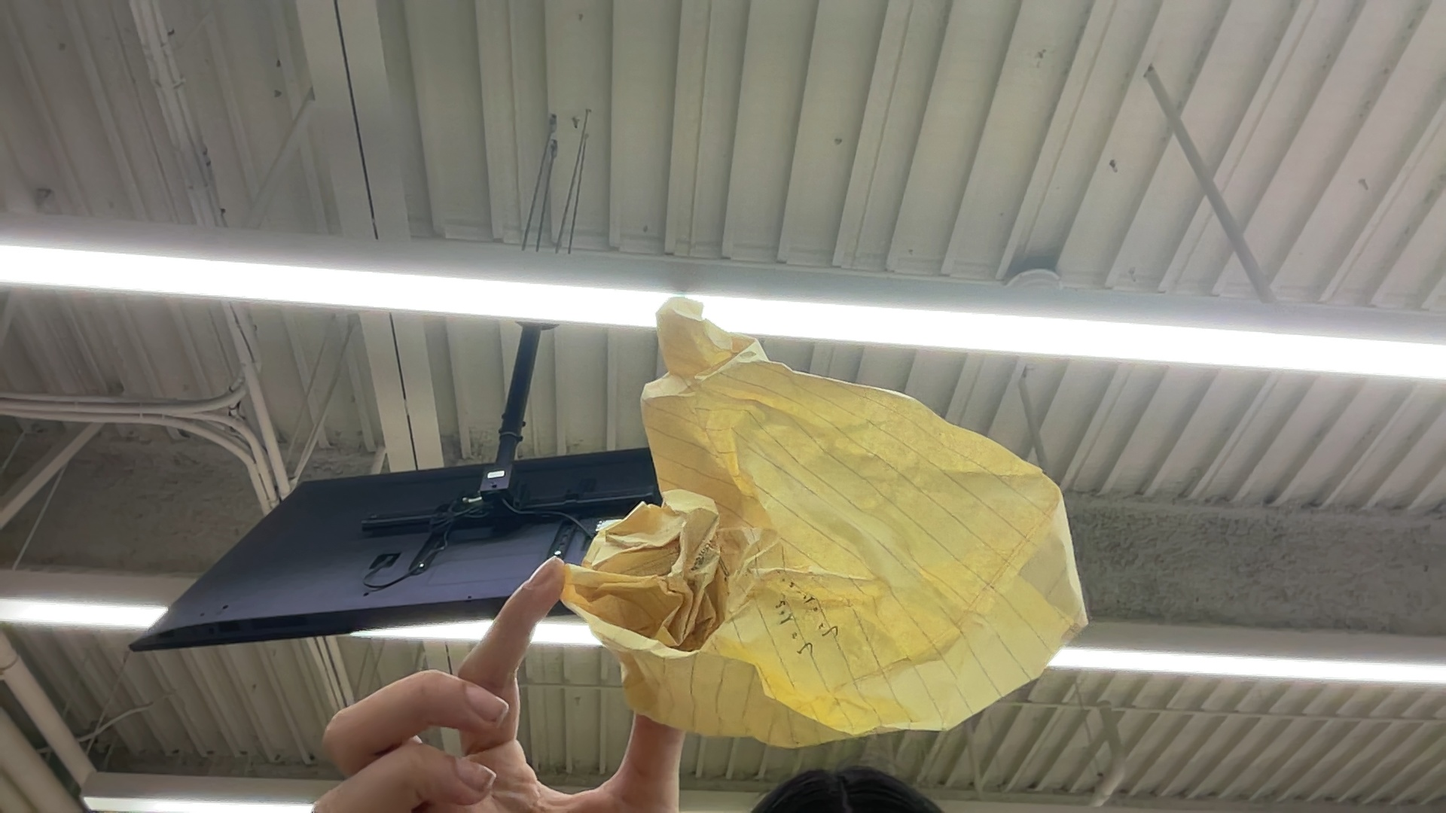Paper: (579, 306, 1097, 744)
